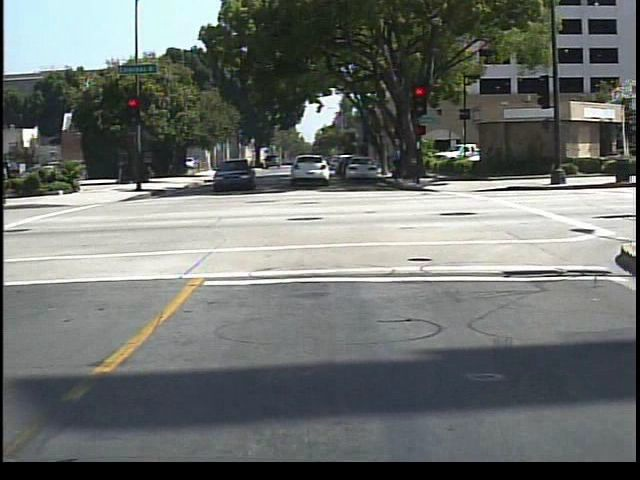person: (388, 141, 406, 184)
